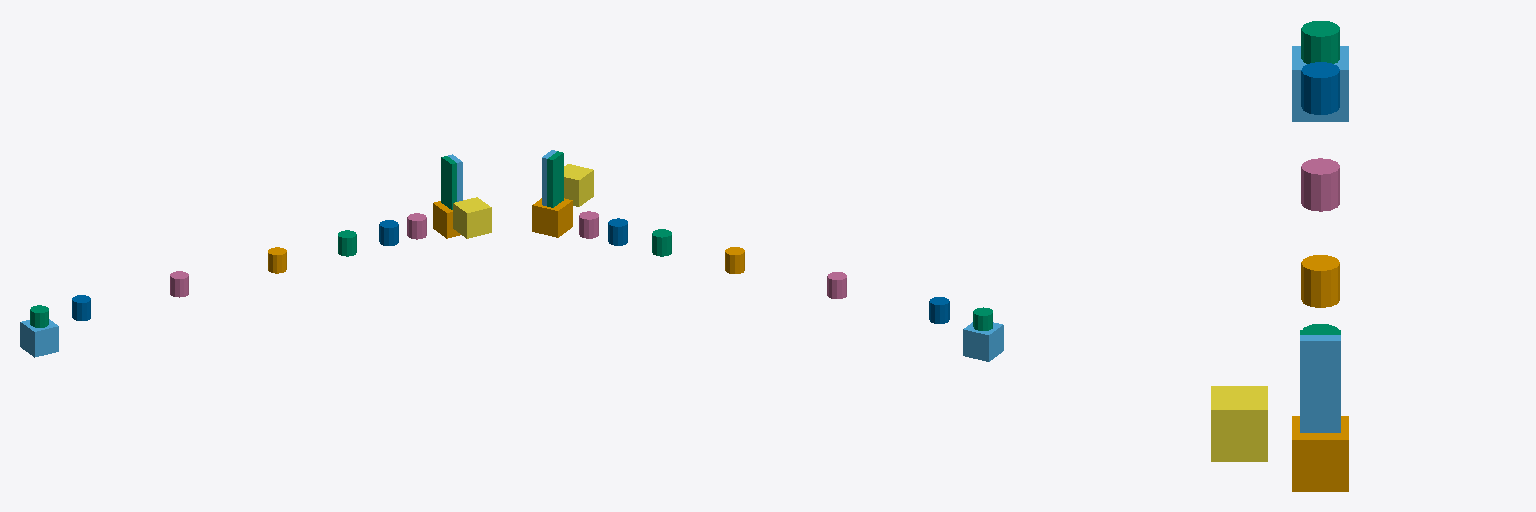
robot.urdf — seven_parallel:
<?xml version="1.0" ?><!-- =================================================================================== --><!-- |    This document was autogenerated by xacro from /workspace/s2r/tests/fixtures/urdf/seven_parallel_pkg/robot.urdf.xacro | --><!-- |    EDITING THIS FILE BY HAND IS NOT RECOMMENDED                                 | --><!-- =================================================================================== --><robot name="seven_parallel"><link name="world"/><link name="Base_0"><inertial><origin rpy="0.1 0.2 0.3" xyz="0.005 0 0"/><mass value="0.4"/><inertia ixx="0.0001" ixy="0" ixz="0" iyy="0.00012" iyz="0" izz="0.00015"/></inertial><visual><origin rpy="0 0 0" xyz="0 0 0"/><geometry><mesh filename="package://seven_parallel_pkg/meshes/body.stl"/></geometry></visual><collision><origin rpy="0 0 0" xyz="0 0 0"/><geometry><mesh filename="package://seven_parallel_pkg/meshes/body.stl"/></geometry></collision></link><joint name="WorldMount" type="fixed"><parent link="world"/><child link="Base_0"/><origin rpy="0 0 0" xyz="0 0 0"/><axis xyz="0 1 0"/><limit effort="20" lower="-2.9" upper="2.9" velocity="2"/></joint><link name="Bracket_1"><inertial><origin rpy="0.1 0.2 0.3" xyz="0.005 0 0"/><mass value="0.025"/><inertia ixx="0.0001" ixy="0" ixz="0" iyy="0.00012" iyz="0" izz="0.00015"/></inertial><visual><origin rpy="0 0 0" xyz="0 0 0"/><geometry><mesh filename="package://seven_parallel_pkg/meshes/motor.stl"/></geometry></visual><collision><origin rpy="0 0 0" xyz="0 0 0"/><geometry><mesh filename="package://seven_parallel_pkg/meshes/motor.stl"/></geometry></collision></link><joint name="FixedBracket_1" type="fixed"><parent link="Base_0"/><child link="Bracket_1"/><origin rpy="0 0 0" xyz="0 0 .025"/><axis xyz="0 1 0"/><limit effort="20" lower="-2.9" upper="2.9" velocity="2"/></joint><link name="Link_1"><inertial><origin rpy="0.1 0.2 0.3" xyz="0.005 0 0"/><mass value="0.08"/><inertia ixx="0.0001" ixy="0" ixz="0" iyy="0.00012" iyz="0" izz="0.00015"/></inertial><visual><origin rpy="0 0 0" xyz=".05 0 0"/><geometry><mesh filename="package://seven_parallel_pkg/meshes/link.stl"/></geometry></visual><collision><origin rpy="0 0 0" xyz=".05 0 0"/><geometry><mesh filename="package://seven_parallel_pkg/meshes/link.stl"/></geometry></collision></link><joint name="Axis_1" type="revolute"><parent link="Bracket_1"/><child link="Link_1"/><origin rpy="0 0 0" xyz="0 0 0"/><axis xyz="0 0 1"/><limit effort="20" lower="-3.141592653589793" upper="3.141592653589793" velocity="2"/></joint><link name="Bracket_2"><inertial><origin rpy="0.1 0.2 0.3" xyz="0.005 0 0"/><mass value="0.025"/><inertia ixx="0.0001" ixy="0" ixz="0" iyy="0.00012" iyz="0" izz="0.00015"/></inertial><visual><origin rpy="0 0 0" xyz="0 0 0"/><geometry><mesh filename="package://seven_parallel_pkg/meshes/motor.stl"/></geometry></visual><collision><origin rpy="0 0 0" xyz="0 0 0"/><geometry><mesh filename="package://seven_parallel_pkg/meshes/motor.stl"/></geometry></collision></link><joint name="FixedBracket_2" type="fixed"><parent link="Link_1"/><child link="Bracket_2"/><origin rpy="0 0 0" xyz="0.06 0 0"/><axis xyz="0 1 0"/><limit effort="20" lower="-2.9" upper="2.9" velocity="2"/></joint><link name="Link_2"><inertial><origin rpy="0.1 0.2 0.3" xyz="0.005 0 0"/><mass value="0.08"/><inertia ixx="0.0001" ixy="0" ixz="0" iyy="0.00012" iyz="0" izz="0.00015"/></inertial><visual><origin rpy="0 0 0" xyz=".05 0 0"/><geometry><mesh filename="package://seven_parallel_pkg/meshes/link.stl"/></geometry></visual><collision><origin rpy="0 0 0" xyz=".05 0 0"/><geometry><mesh filename="package://seven_parallel_pkg/meshes/link.stl"/></geometry></collision></link><joint name="Axis_2" type="revolute"><parent link="Bracket_2"/><child link="Link_2"/><origin rpy="0 0 0" xyz="0 0 0"/><axis xyz="0 1 0"/><limit effort="20" lower="-3.141592653589793" upper="3.141592653589793" velocity="2"/></joint><link name="Bracket_3"><inertial><origin rpy="0.1 0.2 0.3" xyz="0.005 0 0"/><mass value="0.025"/><inertia ixx="0.0001" ixy="0" ixz="0" iyy="0.00012" iyz="0" izz="0.00015"/></inertial><visual><origin rpy="0 0 0" xyz="0 0 0"/><geometry><mesh filename="package://seven_parallel_pkg/meshes/motor.stl"/></geometry></visual><collision><origin rpy="0 0 0" xyz="0 0 0"/><geometry><mesh filename="package://seven_parallel_pkg/meshes/motor.stl"/></geometry></collision></link><joint name="FixedBracket_3" type="fixed"><parent link="Link_2"/><child link="Bracket_3"/><origin rpy="0 0 0" xyz="0.14 0 0"/><axis xyz="0 1 0"/><limit effort="20" lower="-2.9" upper="2.9" velocity="2"/></joint><link name="Link_3"><inertial><origin rpy="0.1 0.2 0.3" xyz="0.005 0 0"/><mass value="0.08"/><inertia ixx="0.0001" ixy="0" ixz="0" iyy="0.00012" iyz="0" izz="0.00015"/></inertial><visual><origin rpy="0 0 0" xyz=".05 0 0"/><geometry><mesh filename="package://seven_parallel_pkg/meshes/link.stl"/></geometry></visual><collision><origin rpy="0 0 0" xyz=".05 0 0"/><geometry><mesh filename="package://seven_parallel_pkg/meshes/link.stl"/></geometry></collision></link><joint name="Axis_3" type="revolute"><parent link="Bracket_3"/><child link="Link_3"/><origin rpy="0 0 0" xyz="0 0 0"/><axis xyz="-1 0 0"/><limit effort="20" lower="-3.141592653589793" upper="1.05" velocity="2"/></joint><link name="Bracket_4"><inertial><origin rpy="0.1 0.2 0.3" xyz="0.005 0 0"/><mass value="0.025"/><inertia ixx="0.0001" ixy="0" ixz="0" iyy="0.00012" iyz="0" izz="0.00015"/></inertial><visual><origin rpy="0 0 0" xyz="0 0 0"/><geometry><mesh filename="package://seven_parallel_pkg/meshes/motor.stl"/></geometry></visual><collision><origin rpy="0 0 0" xyz="0 0 0"/><geometry><mesh filename="package://seven_parallel_pkg/meshes/motor.stl"/></geometry></collision></link><joint name="FixedBracket_4" type="fixed"><parent link="Link_3"/><child link="Bracket_4"/><origin rpy="0 0 0" xyz="0.14 0 0"/><axis xyz="0 1 0"/><limit effort="20" lower="-2.9" upper="2.9" velocity="2"/></joint><link name="Link_4"><inertial><origin rpy="0.1 0.2 0.3" xyz="0.005 0 0"/><mass value="0.08"/><inertia ixx="0.0001" ixy="0" ixz="0" iyy="0.00012" iyz="0" izz="0.00015"/></inertial><visual><origin rpy="0 0 0" xyz=".05 0 0"/><geometry><mesh filename="package://seven_parallel_pkg/meshes/link.stl"/></geometry></visual><collision><origin rpy="0 0 0" xyz=".05 0 0"/><geometry><mesh filename="package://seven_parallel_pkg/meshes/link.stl"/></geometry></collision></link><joint name="Axis_4" type="revolute"><parent link="Bracket_4"/><child link="Link_4"/><origin rpy="0 0 0" xyz="0 0 0"/><axis xyz="0 1 0"/><limit effort="20" lower="-3.141592653589793" upper="3.141592653589793" velocity="2"/></joint><link name="Bracket_5"><inertial><origin rpy="0.1 0.2 0.3" xyz="0.005 0 0"/><mass value="0.025"/><inertia ixx="0.0001" ixy="0" ixz="0" iyy="0.00012" iyz="0" izz="0.00015"/></inertial><visual><origin rpy="0 0 0" xyz="0 0 0"/><geometry><mesh filename="package://seven_parallel_pkg/meshes/motor.stl"/></geometry></visual><collision><origin rpy="0 0 0" xyz="0 0 0"/><geometry><mesh filename="package://seven_parallel_pkg/meshes/motor.stl"/></geometry></collision></link><joint name="FixedBracket_5" type="fixed"><parent link="Link_4"/><child link="Bracket_5"/><origin rpy="0 0 0" xyz="0.1 0 0"/><axis xyz="0 1 0"/><limit effort="20" lower="-2.9" upper="2.9" velocity="2"/></joint><link name="Link_5"><inertial><origin rpy="0.1 0.2 0.3" xyz="0.005 0 0"/><mass value="0.08"/><inertia ixx="0.0001" ixy="0" ixz="0" iyy="0.00012" iyz="0" izz="0.00015"/></inertial><visual><origin rpy="0 0 0" xyz=".05 0 0"/><geometry><mesh filename="package://seven_parallel_pkg/meshes/link.stl"/></geometry></visual><collision><origin rpy="0 0 0" xyz=".05 0 0"/><geometry><mesh filename="package://seven_parallel_pkg/meshes/link.stl"/></geometry></collision></link><joint name="Axis_5" type="revolute"><parent link="Bracket_5"/><child link="Link_5"/><origin rpy="0 0 0" xyz="0 0 0"/><axis xyz="1 0 0"/><limit effort="20" lower="-3.141592653589793" upper="3.141592653589793" velocity="2"/></joint><link name="Bracket_6"><inertial><origin rpy="0.1 0.2 0.3" xyz="0.005 0 0"/><mass value="0.025"/><inertia ixx="0.0001" ixy="0" ixz="0" iyy="0.00012" iyz="0" izz="0.00015"/></inertial><visual><origin rpy="0 0 0" xyz="0 0 0"/><geometry><mesh filename="package://seven_parallel_pkg/meshes/motor.stl"/></geometry></visual><collision><origin rpy="0 0 0" xyz="0 0 0"/><geometry><mesh filename="package://seven_parallel_pkg/meshes/motor.stl"/></geometry></collision></link><joint name="FixedBracket_6" type="fixed"><parent link="Link_5"/><child link="Bracket_6"/><origin rpy="0 0 0" xyz="0.06 0 0"/><axis xyz="0 1 0"/><limit effort="20" lower="-2.9" upper="2.9" velocity="2"/></joint><link name="Link_6"><inertial><origin rpy="0.1 0.2 0.3" xyz="0.005 0 0"/><mass value="0.08"/><inertia ixx="0.0001" ixy="0" ixz="0" iyy="0.00012" iyz="0" izz="0.00015"/></inertial><visual><origin rpy="0 0 0" xyz=".05 0 0"/><geometry><mesh filename="package://seven_parallel_pkg/meshes/link.stl"/></geometry></visual><collision><origin rpy="0 0 0" xyz=".05 0 0"/><geometry><mesh filename="package://seven_parallel_pkg/meshes/link.stl"/></geometry></collision></link><joint name="Axis_6" type="revolute"><parent link="Bracket_6"/><child link="Link_6"/><origin rpy="0 0 0" xyz="0 0 0"/><axis xyz="0 1 0"/><limit effort="20" lower="-3.141592653589793" upper="3.141592653589793" velocity="2"/></joint><link name="Bracket_7"><inertial><origin rpy="0.1 0.2 0.3" xyz="0.005 0 0"/><mass value="0.025"/><inertia ixx="0.0001" ixy="0" ixz="0" iyy="0.00012" iyz="0" izz="0.00015"/></inertial><visual><origin rpy="0 0 0" xyz="0 0 0"/><geometry><mesh filename="package://seven_parallel_pkg/meshes/motor.stl"/></geometry></visual><collision><origin rpy="0 0 0" xyz="0 0 0"/><geometry><mesh filename="package://seven_parallel_pkg/meshes/motor.stl"/></geometry></collision></link><joint name="FixedBracket_7" type="fixed"><parent link="Link_6"/><child link="Bracket_7"/><origin rpy="0 0 0" xyz="0.04 0 0"/><axis xyz="0 1 0"/><limit effort="20" lower="-2.9" upper="2.9" velocity="2"/></joint><link name="Link_7"><inertial><origin rpy="0.1 0.2 0.3" xyz="0.005 0 0"/><mass value="0.08"/><inertia ixx="0.0001" ixy="0" ixz="0" iyy="0.00012" iyz="0" izz="0.00015"/></inertial><visual><origin rpy="0 0 0" xyz=".05 0 0"/><geometry><mesh filename="package://seven_parallel_pkg/meshes/link.stl"/></geometry></visual><collision><origin rpy="0 0 0" xyz=".05 0 0"/><geometry><mesh filename="package://seven_parallel_pkg/meshes/link.stl"/></geometry></collision></link><joint name="Axis_7" type="revolute"><parent link="Bracket_7"/><child link="Link_7"/><origin rpy="0 0 0" xyz="0 0 0"/><axis xyz="0 0 1"/><limit effort="20" lower="-3.141592653589793" upper="3.141592653589793" velocity="2"/></joint><link name="Tool_0"><inertial><origin rpy="0.1 0.2 0.3" xyz="0.005 0 0"/><mass value="0.08"/><inertia ixx="0.0001" ixy="0" ixz="0" iyy="0.00012" iyz="0" izz="0.00015"/></inertial><visual><origin rpy="0 0 0" xyz="0 0 0"/><geometry><mesh filename="package://seven_parallel_pkg/meshes/body.stl"/></geometry></visual><collision><origin rpy="0 0 0" xyz="0 0 0"/><geometry><mesh filename="package://seven_parallel_pkg/meshes/body.stl"/></geometry></collision></link><joint name="ToolMount" type="fixed"><parent link="Link_7"/><child link="Tool_0"/><origin rpy="0 0 0" xyz=".05 0 0"/><axis xyz="0 1 0"/><limit effort="20" lower="-2.9" upper="2.9" velocity="2"/></joint><link name="Finger_L"><inertial><origin rpy="0.1 0.2 0.3" xyz="0.005 0 0"/><mass value="0.025"/><inertia ixx="0.0001" ixy="0" ixz="0" iyy="0.00012" iyz="0" izz="0.00015"/></inertial><visual><origin rpy="0 0 0" xyz="0 0 .035"/><geometry><mesh filename="package://seven_parallel_pkg/meshes/finger.stl"/></geometry></visual><collision><origin rpy="0 0 0" xyz="0 0 .035"/><geometry><mesh filename="package://seven_parallel_pkg/meshes/finger.stl"/></geometry></collision></link><link name="Finger_R"><inertial><origin rpy="0.1 0.2 0.3" xyz="0.005 0 0"/><mass value="0.025"/><inertia ixx="0.0001" ixy="0" ixz="0" iyy="0.00012" iyz="0" izz="0.00015"/></inertial><visual><origin rpy="0 0 0" xyz="0 0 .035"/><geometry><mesh filename="package://seven_parallel_pkg/meshes/finger.stl"/></geometry></visual><collision><origin rpy="0 0 0" xyz="0 0 .035"/><geometry><mesh filename="package://seven_parallel_pkg/meshes/finger.stl"/></geometry></collision></link><joint name="Grip_L" type="prismatic"><parent link="Tool_0"/><child link="Finger_L"/><origin rpy="0 0 0" xyz=".004 0 .01"/><axis xyz="1 0 0"/><limit effort="15" lower="0" upper=".045" velocity="0.2"/></joint><joint name="Grip_R" type="prismatic"><parent link="Tool_0"/><child link="Finger_R"/><origin rpy="0 0 0" xyz="-.004 0 .01"/><axis xyz="-1 0 0"/><limit effort="15" lower="0" upper=".045" velocity="0.2"/><mimic joint="Grip_L" multiplier="1" offset="0"/></joint><link name="Camera_1"><inertial><origin rpy="0.1 0.2 0.3" xyz="0.005 0 0"/><mass value="0.015"/><inertia ixx="0.0001" ixy="0" ixz="0" iyy="0.00012" iyz="0" izz="0.00015"/></inertial><visual><origin rpy="0 0 0" xyz="0 0 0"/><geometry><mesh filename="package://seven_parallel_pkg/meshes/body.stl"/></geometry></visual><collision><origin rpy="0 0 0" xyz="0 0 0"/><geometry><mesh filename="package://seven_parallel_pkg/meshes/body.stl"/></geometry></collision><visual><origin rpy=".1 0 .2" xyz="0 0 .005"/><geometry><mesh filename="package://seven_parallel_pkg/meshes/camera.obj" scale=".5 .5 .5"/></geometry></visual><visual><origin rpy=".1 0 .2" xyz="0 0 .005"/><geometry><mesh filename="package://seven_parallel_pkg/meshes/camera.dae" scale=".5 .5 .5"/></geometry></visual></link><joint name="CameraMount" type="fixed"><parent link="Tool_0"/><child link="Camera_1"/><origin rpy="0 0 0" xyz="0 -.05 .02"/><axis xyz="0 1 0"/><limit effort="20" lower="-2.9" upper="2.9" velocity="2"/></joint><ros2_control name="TestSystem" type="system"><hardware><plugin>test/Placeholder</plugin></hardware><joint name="Axis_1"><param name="id">1</param><command_interface name="position"/><state_interface name="position"/></joint><joint name="Axis_2"><param name="id">2</param><command_interface name="position"/><state_interface name="position"/></joint><joint name="Axis_3"><param name="id">3</param><command_interface name="position"/><state_interface name="position"/></joint><joint name="Axis_4"><param name="id">4</param><command_interface name="position"/><state_interface name="position"/></joint><joint name="Axis_5"><param name="id">5</param><command_interface name="position"/><state_interface name="position"/></joint><joint name="Axis_6"><param name="id">6</param><command_interface name="position"/><state_interface name="position"/></joint><joint name="Axis_7"><param name="id">7</param><command_interface name="position"/><state_interface name="position"/></joint><joint name="Grip_L"><param name="id">8</param><command_interface name="position"/><state_interface name="position"/></joint><joint name="Grip_R"><param name="id">9</param><command_interface name="position"/><state_interface name="position"/></joint></ros2_control></robot>

--- What the picture shows (computed from the rendered views, not written in the file) ---
The picture shows the robot from 3 angles, left to right: view 1: azimuth 30°, elevation 25°; view 2: azimuth 150°, elevation 25°; view 3: azimuth 270°, elevation 25°; orthographic projection.
Model seven_parallel with 20 links and 19 joints (7 revolute, 2 prismatic, 10 fixed), rooted at world, posed every joint at zero.
Visible links, largest first — view 1: Camera_1, Base_0, Finger_R, Tool_0; view 2: Base_0, Tool_0, Camera_1, Finger_R, Bracket_2; view 3: Camera_1, Finger_L, Tool_0, Bracket_3, Bracket_4, Bracket_2, Base_0, Bracket_1.
Boxes of the visible links, x1,y1,x2,y2 form: Camera_1: (453, 197, 491, 238); Base_0: (20, 319, 58, 357); Finger_R: (441, 156, 456, 209); Tool_0: (433, 201, 460, 238); Base_0: (963, 322, 1003, 361); Tool_0: (532, 198, 572, 237); Camera_1: (564, 164, 593, 206); Finger_R: (547, 151, 563, 207); Bracket_2: (929, 297, 949, 323); Camera_1: (1211, 386, 1267, 461); Finger_L: (1300, 335, 1340, 432); Tool_0: (1292, 416, 1348, 491); Bracket_3: (1301, 158, 1339, 211); Bracket_4: (1301, 255, 1339, 307); Bracket_2: (1301, 62, 1339, 114); Base_0: (1292, 46, 1348, 121); Bracket_1: (1301, 21, 1339, 63).
Bounding box of the posed robot: 0.625 × 0.085 × 0.1225 m (x, y, z).
Meshes: 6 distinct files referenced, 14 mesh visuals loaded (3 ASCII STL, 1 Collada DAE, 1 OBJ); not drawn: 7 (reference not matched to a file when rendering).
